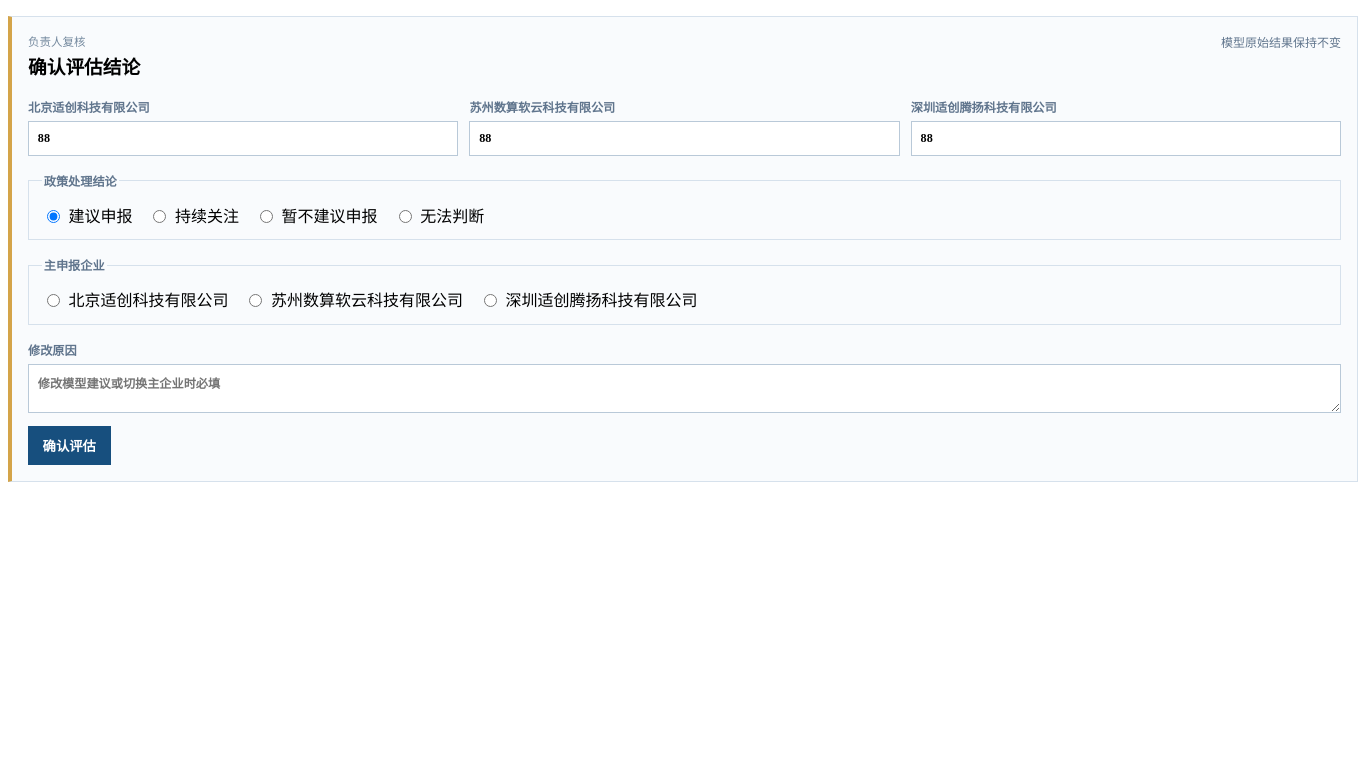
Scenario: requires a reason after changing a model score
The width and height of the screenshot is (1366, 768).
Replace the text in the number field labelled "北京适创科技有限公司" with "91" at (243, 138), box [28,121,458,156]
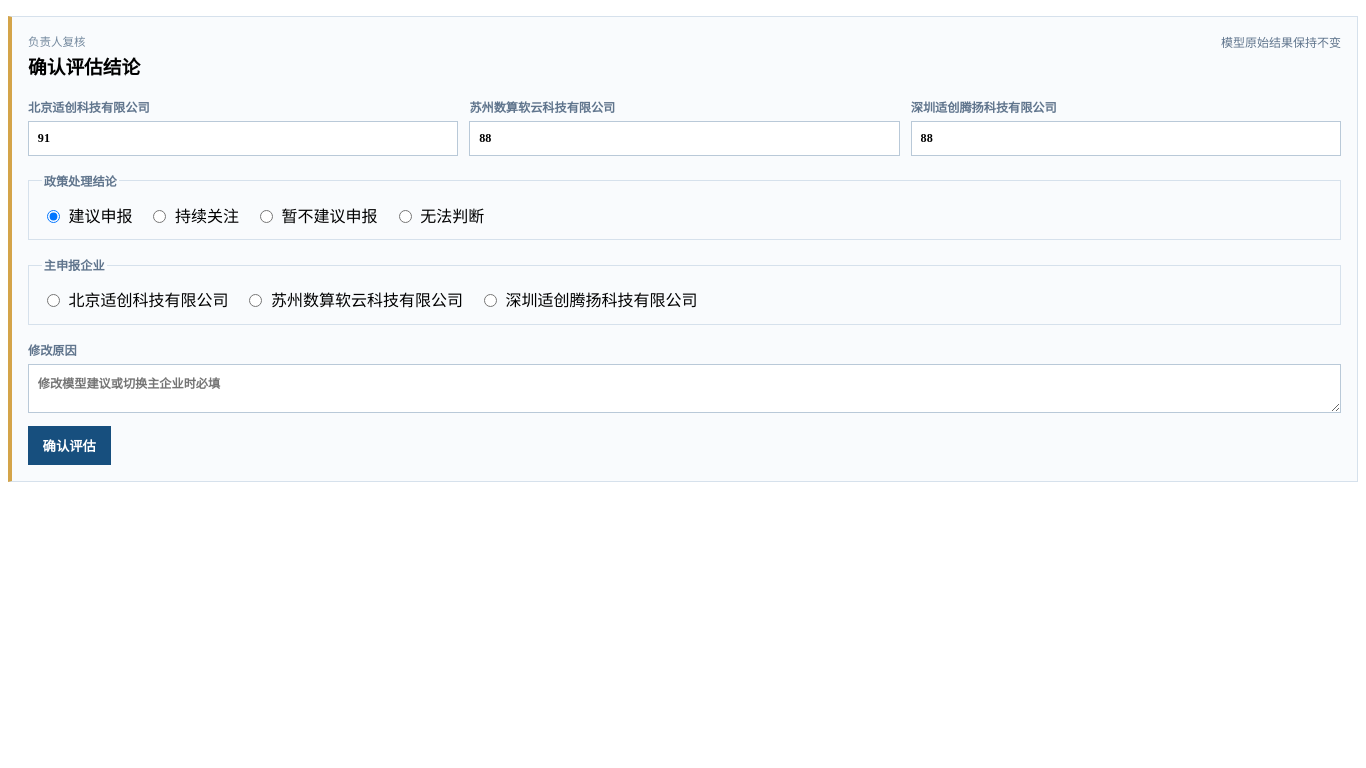
Submit the form, box [8,16,1358,482]
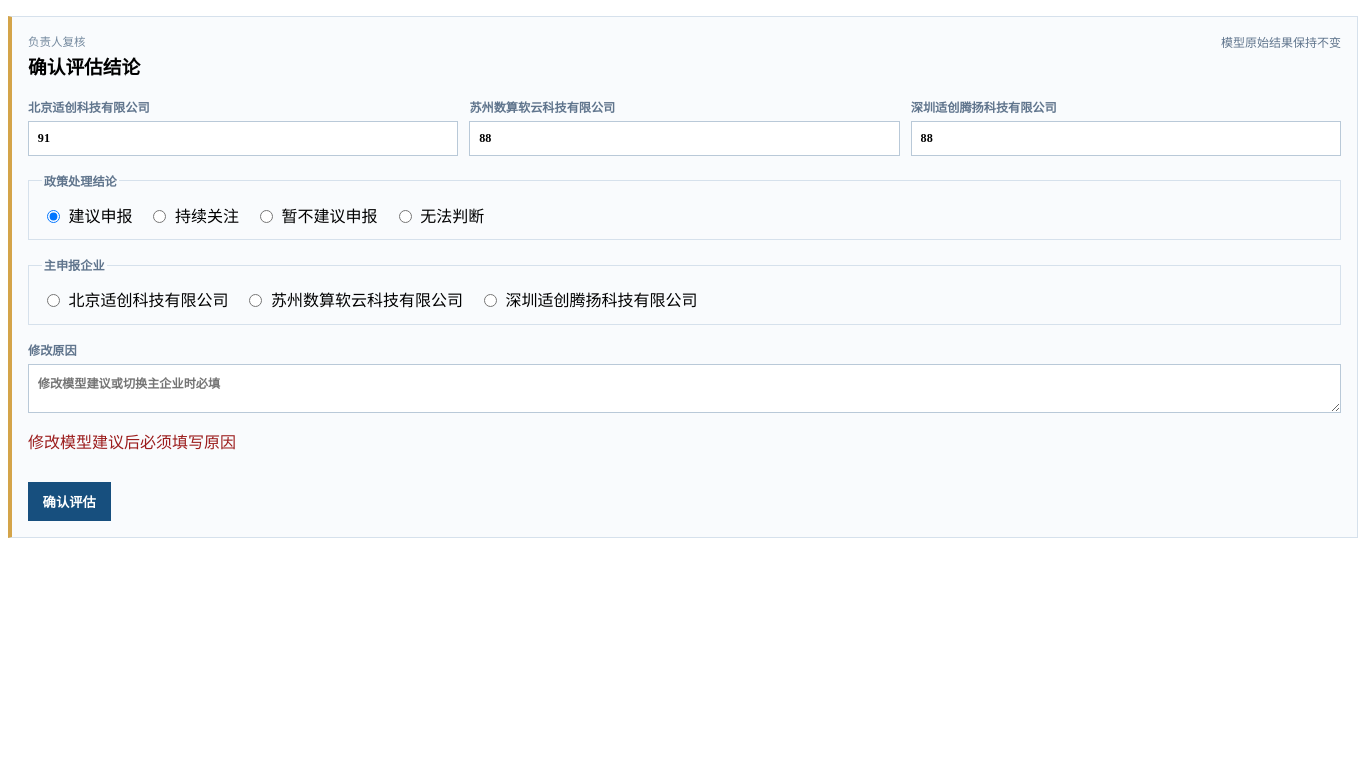
Expected: the form shows "修改模型建议后必须填写原因", [28,434,236,451]
